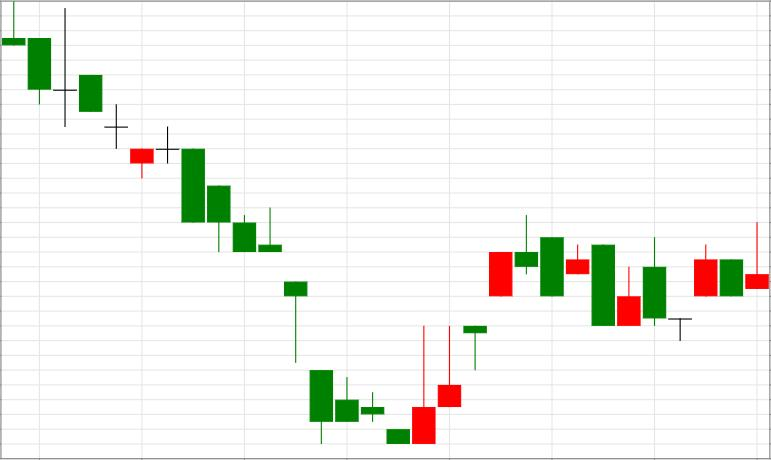inverse_hammer_rise: (182, 148, 435, 445)
